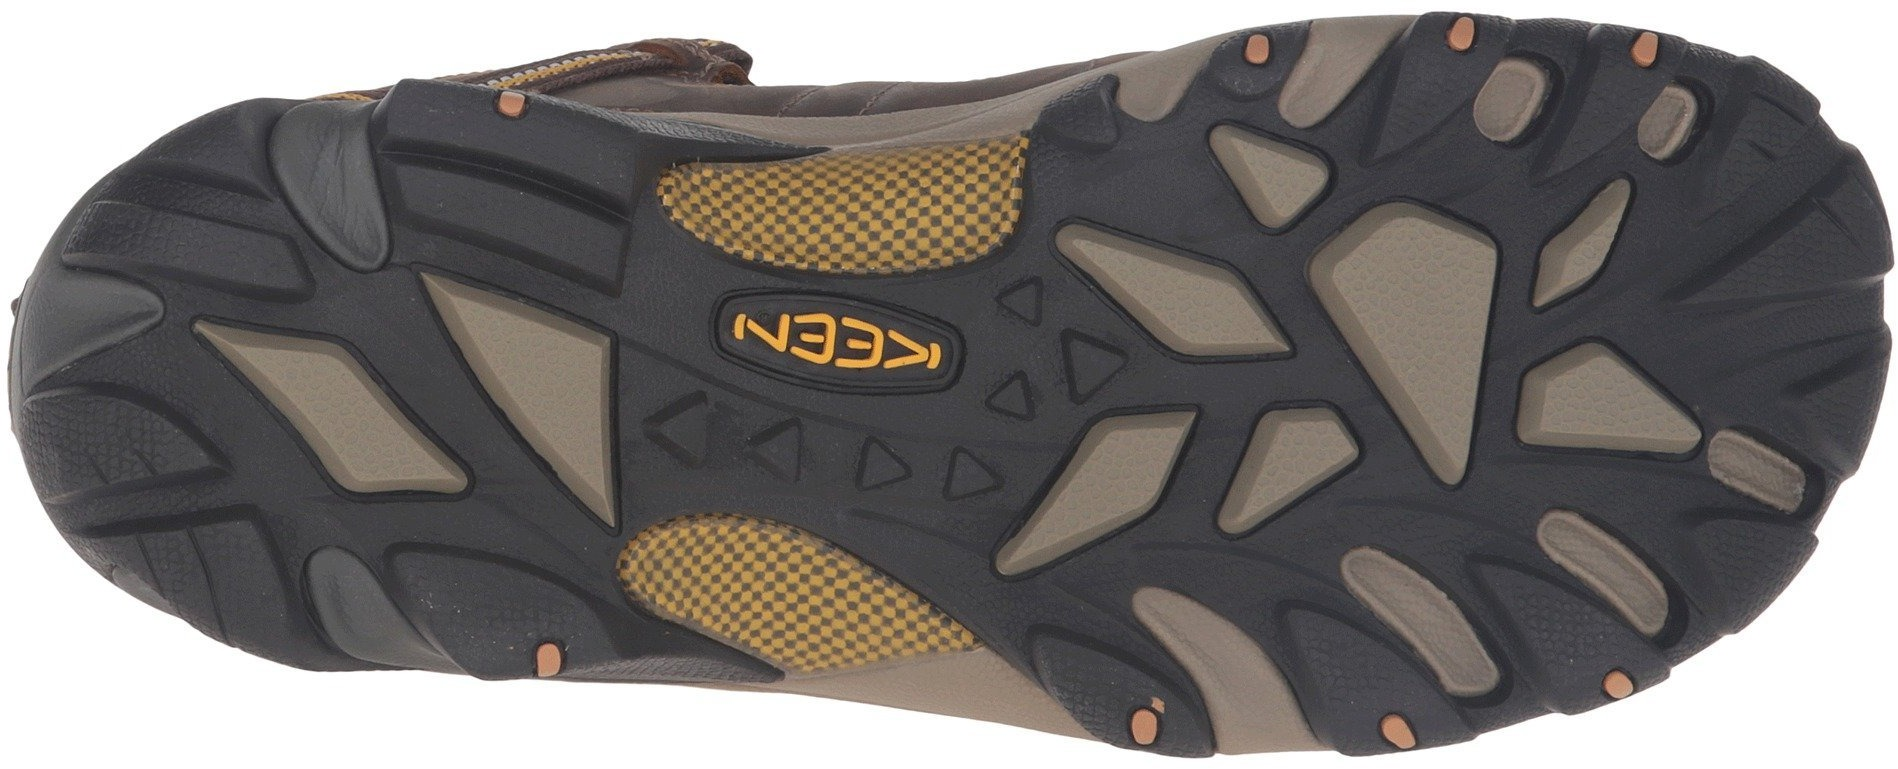circle: (1201, 24, 1316, 80)
quad: (122, 286, 512, 505), (1043, 200, 1302, 378), (65, 197, 343, 314)
text: (763, 295, 832, 371), (863, 325, 941, 386)
triangle: (402, 258, 726, 549), (637, 371, 803, 517), (1180, 110, 1361, 236), (869, 419, 1002, 545)
